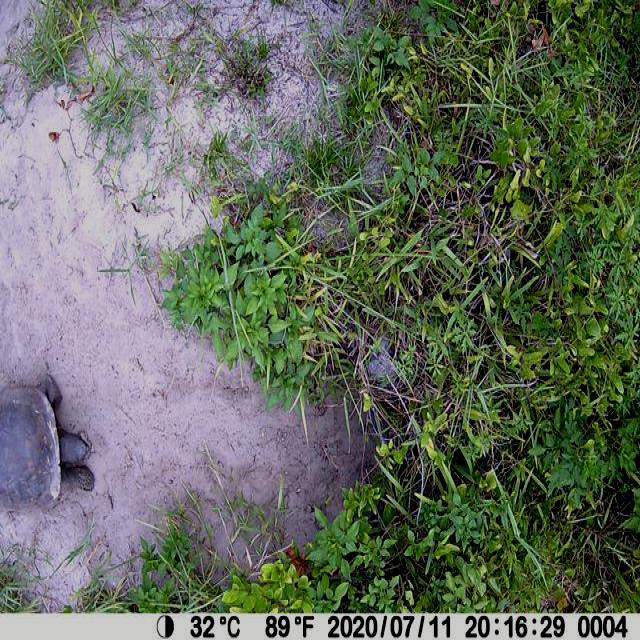tortoise: (0, 372, 94, 510)
